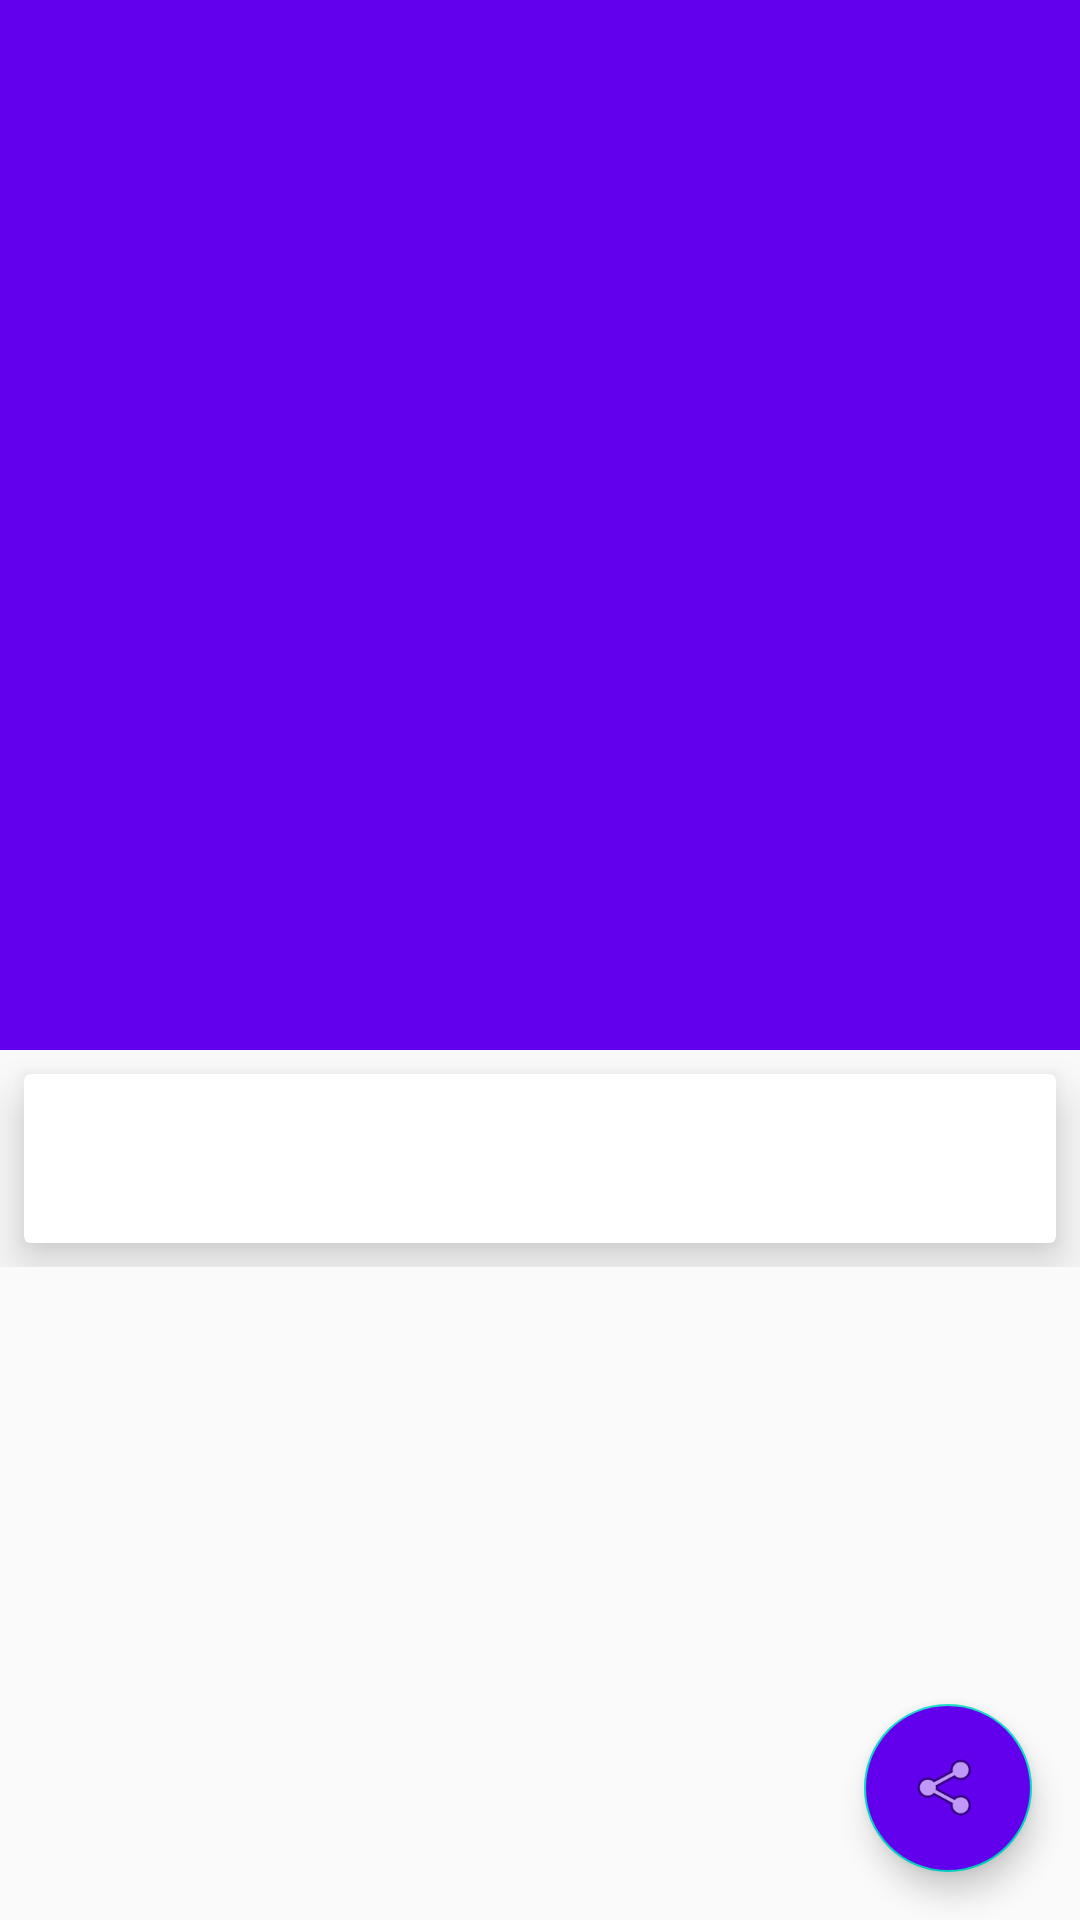

Icons on this 1080px×1920px Android screen, each with its box as {"x1": x1, "y1": y1, "x2": x2, "y2": y2}:
share: {"x1": 864, "y1": 1704, "x2": 1032, "y2": 1872}
